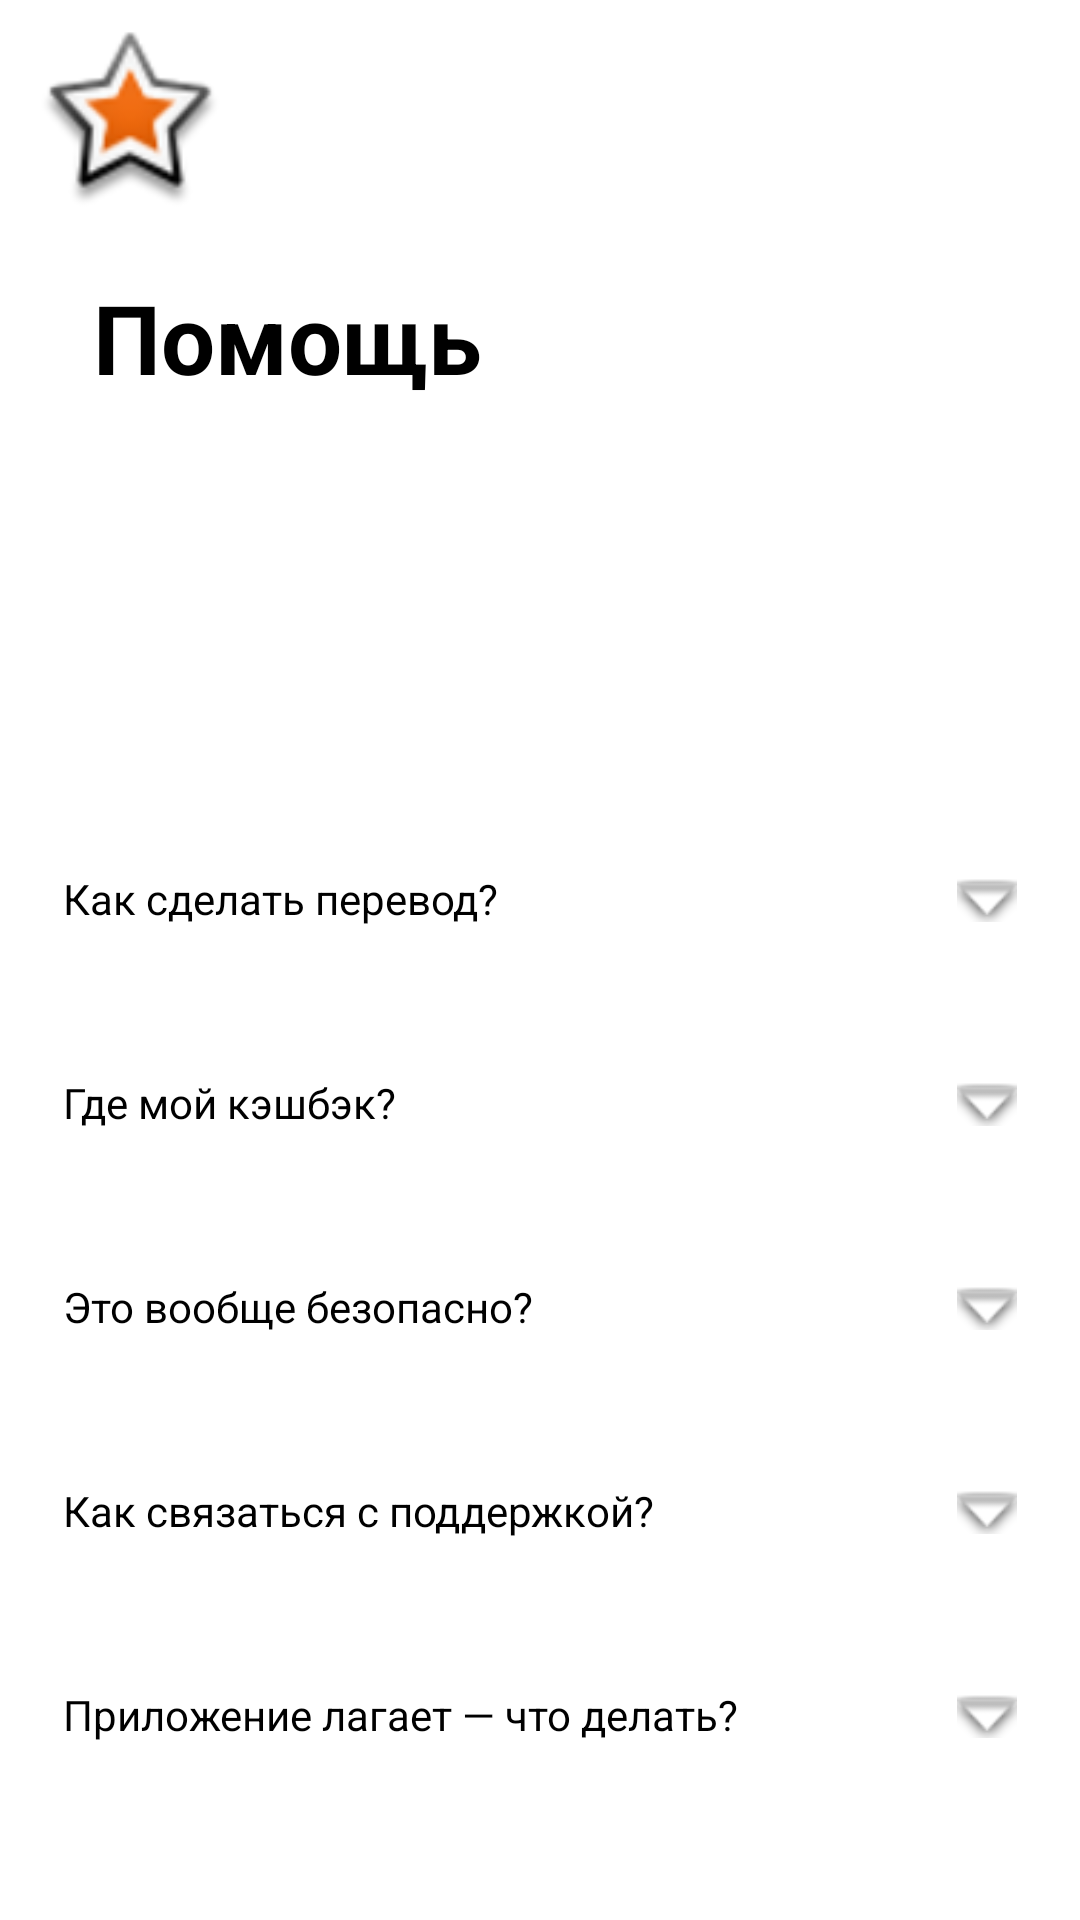

Where icons sit on this 1080 × 1920 app screen, as (x1=x1, y1=y1, x2=x2, y2=y2):
arrow down float: (x1=957, y1=880, x2=1017, y2=921), (x1=957, y1=1084, x2=1017, y2=1125), (x1=957, y1=1288, x2=1017, y2=1329), (x1=957, y1=1492, x2=1017, y2=1533), (x1=957, y1=1696, x2=1017, y2=1737)
star on: (x1=49, y1=32, x2=212, y2=198)
